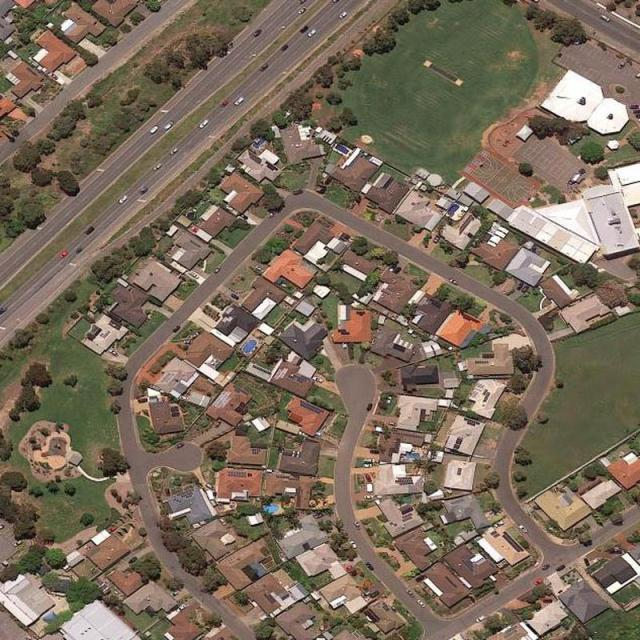vehicle: (162, 119, 174, 130), (233, 95, 244, 106), (229, 291, 240, 302), (415, 598, 425, 609), (12, 538, 24, 547), (475, 614, 487, 623), (148, 124, 158, 134), (198, 119, 208, 129), (108, 348, 119, 357), (403, 589, 414, 598), (311, 375, 323, 383), (258, 62, 267, 72), (152, 162, 162, 171), (138, 185, 148, 194), (118, 194, 127, 204), (517, 524, 526, 534), (254, 264, 265, 272), (172, 323, 181, 332), (601, 13, 610, 22), (84, 226, 94, 234), (212, 266, 222, 274), (448, 277, 458, 285), (386, 395, 394, 405), (365, 560, 373, 570), (204, 482, 214, 490), (555, 563, 565, 571), (392, 265, 402, 273), (363, 494, 374, 501), (514, 281, 525, 288), (298, 5, 306, 14), (50, 72, 58, 81), (540, 563, 550, 570), (362, 458, 375, 463), (307, 28, 315, 36), (365, 402, 373, 410), (221, 98, 229, 106), (175, 441, 184, 448), (353, 521, 360, 530), (291, 189, 303, 194), (254, 30, 261, 38), (433, 234, 440, 242), (349, 540, 356, 548), (521, 284, 529, 291), (534, 578, 542, 585), (361, 463, 372, 468), (170, 148, 179, 154), (177, 605, 186, 611), (280, 43, 287, 50), (267, 211, 274, 218), (338, 12, 346, 18), (60, 250, 66, 258), (1, 306, 7, 314), (494, 521, 503, 526), (299, 26, 306, 32)
